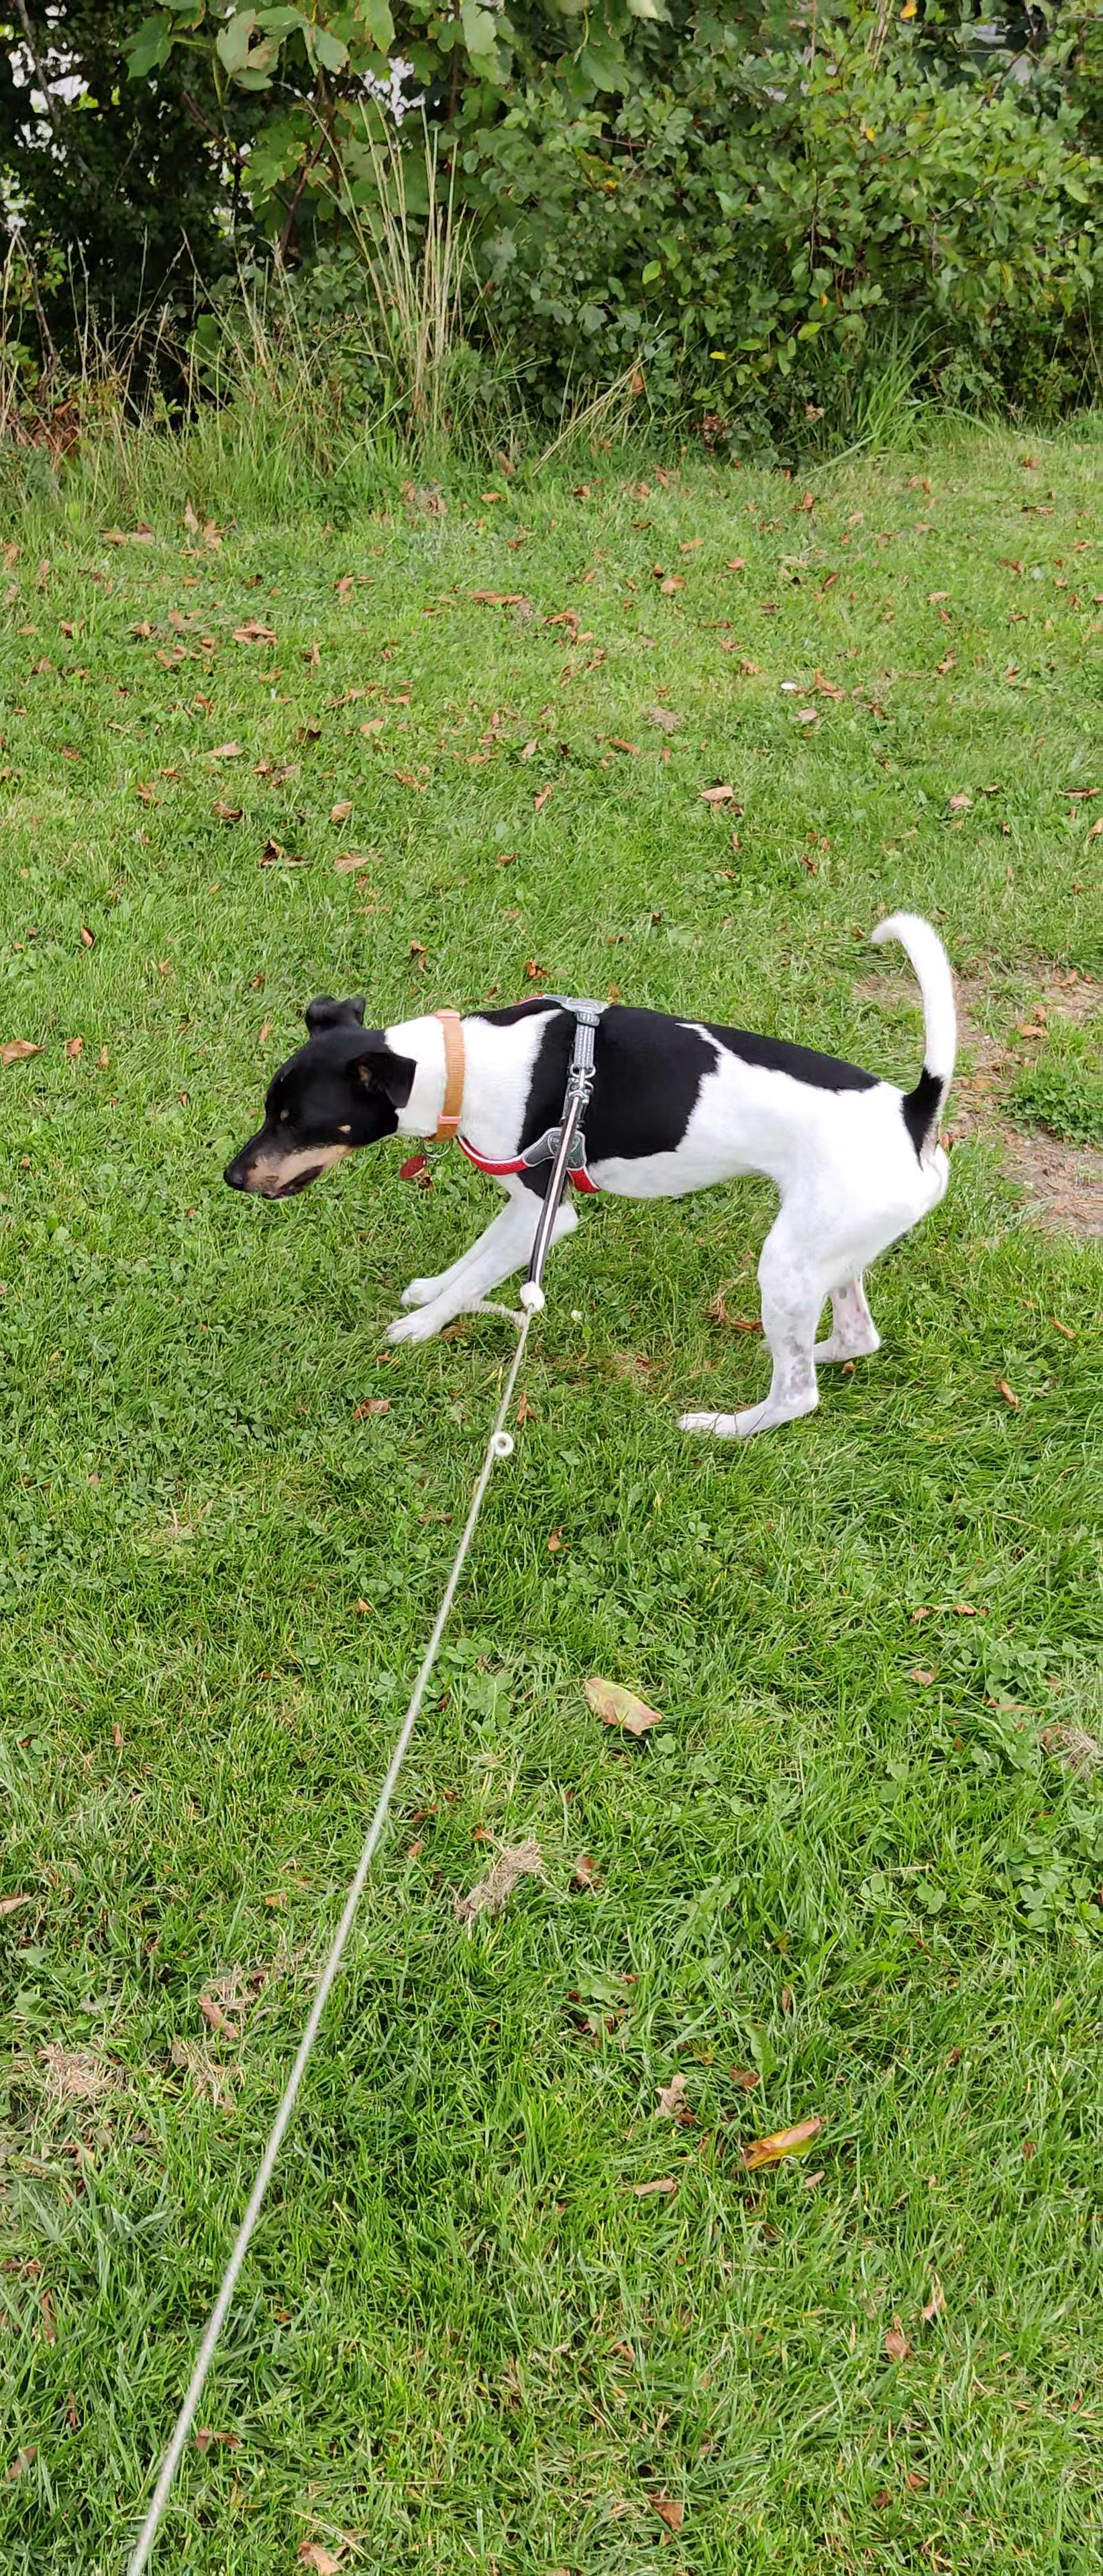Dog: (194, 877, 999, 1472)
